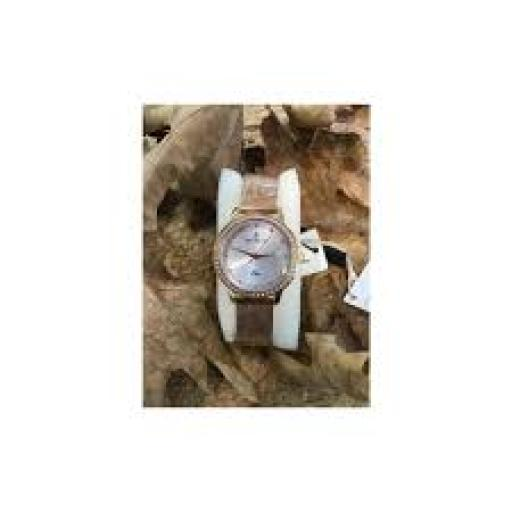KolSaati: (208, 160, 314, 356)
